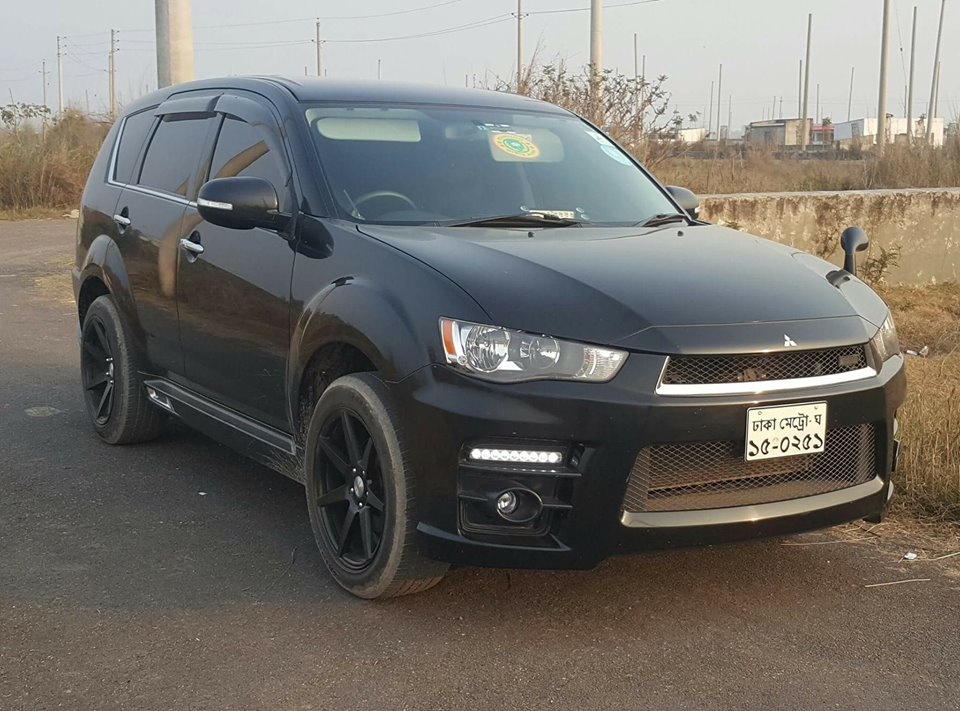registration_plate: (744, 399, 828, 462)
